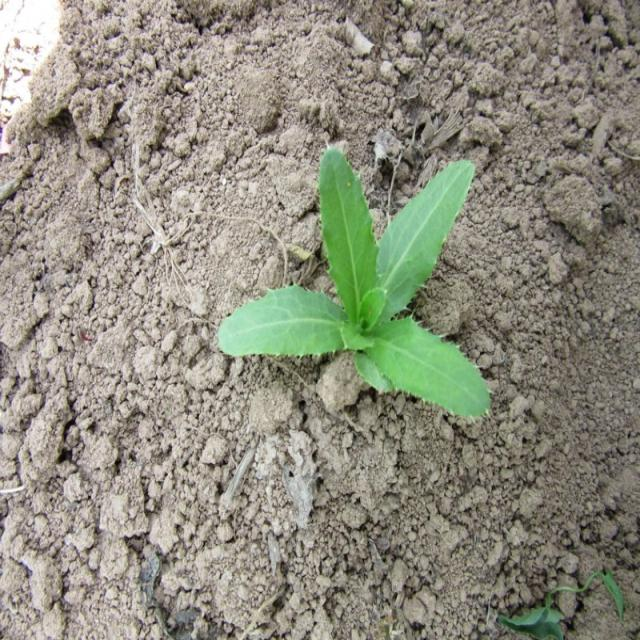field_thistle: (178, 157, 498, 414)
